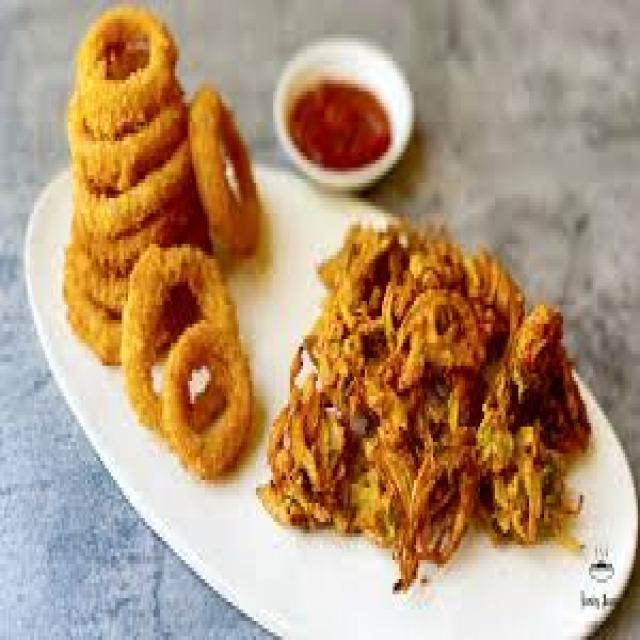BAJI: (260, 225, 587, 587)
